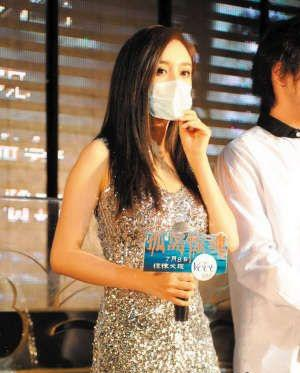OK: (144, 56, 194, 121)
